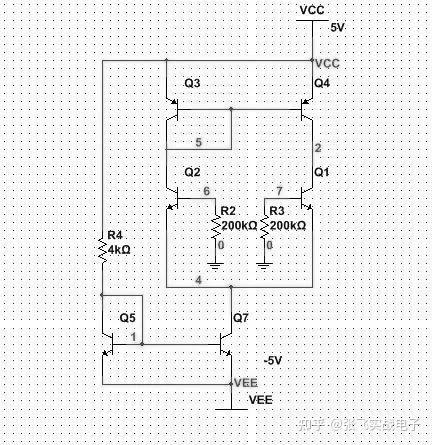gnd: (254, 259, 275, 274), (204, 260, 226, 273)
res2: (208, 210, 224, 242), (94, 233, 108, 267), (258, 210, 271, 242)
triode: (213, 327, 236, 361), (161, 182, 182, 215), (297, 182, 319, 213), (96, 328, 117, 360), (298, 94, 319, 125), (162, 95, 180, 125)
